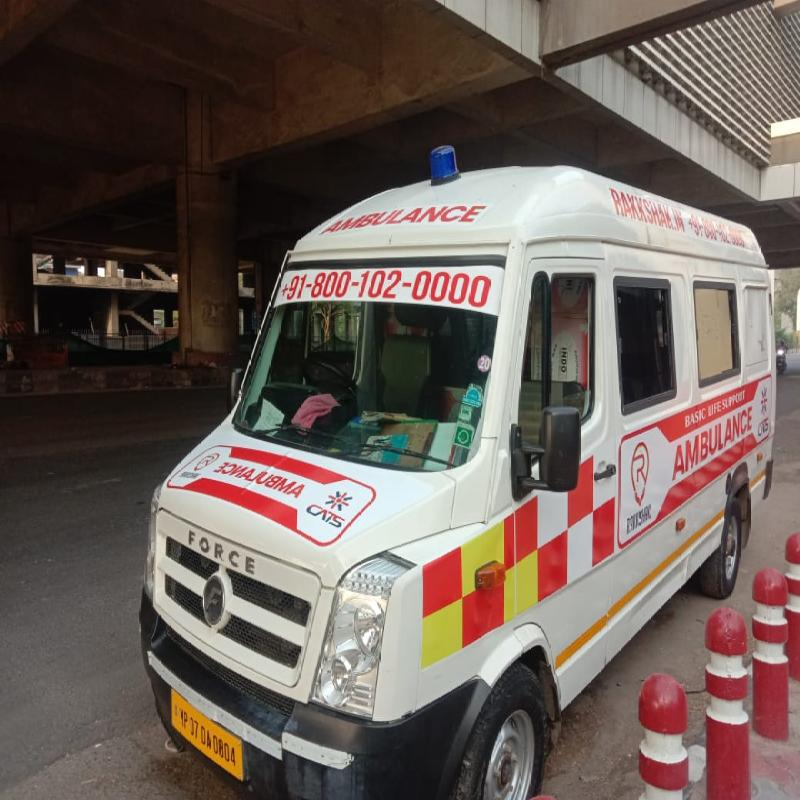AmbulanceSiren: (422, 136, 468, 198)
ambulance: (81, 108, 788, 800)
